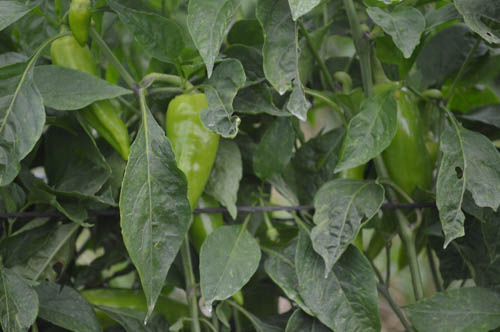ChiliPepper: (49, 38, 133, 157), (162, 95, 227, 210), (369, 85, 425, 196), (187, 198, 222, 257)
